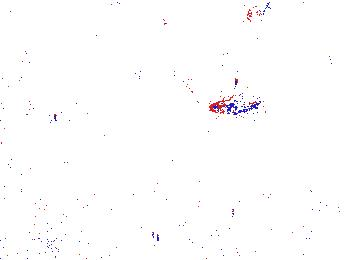X-ray fish: (46, 198, 110, 236), (1, 74, 38, 109)
red belly glassfish: (208, 97, 261, 117), (245, 1, 272, 24)
redtail glassfish: (133, 66, 196, 96)
